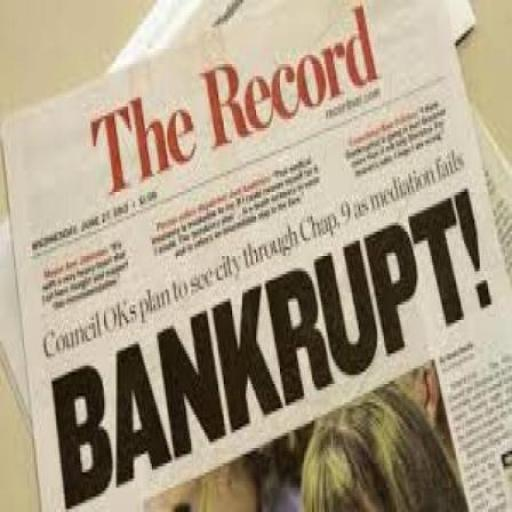paper: (10, 2, 493, 508)
